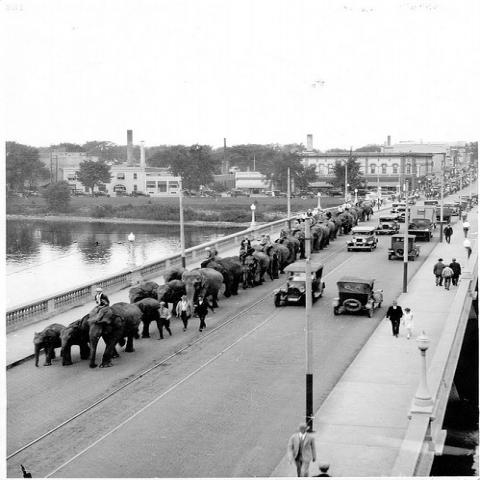car: (272, 262, 326, 307), (333, 276, 384, 317), (344, 226, 380, 252), (387, 234, 421, 261), (408, 218, 435, 239), (376, 215, 402, 235), (444, 202, 461, 216), (396, 206, 410, 222), (390, 204, 406, 215), (423, 200, 438, 205)
